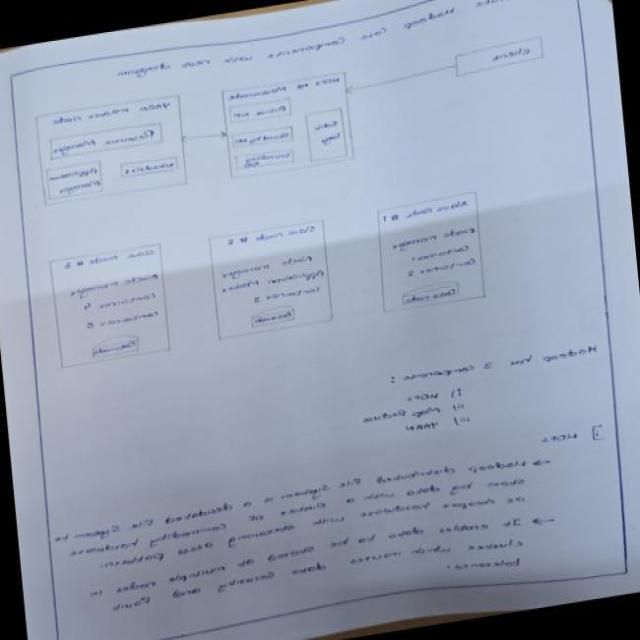Figure Detection - v3 Dataset Version2: (21, 15, 577, 382)
